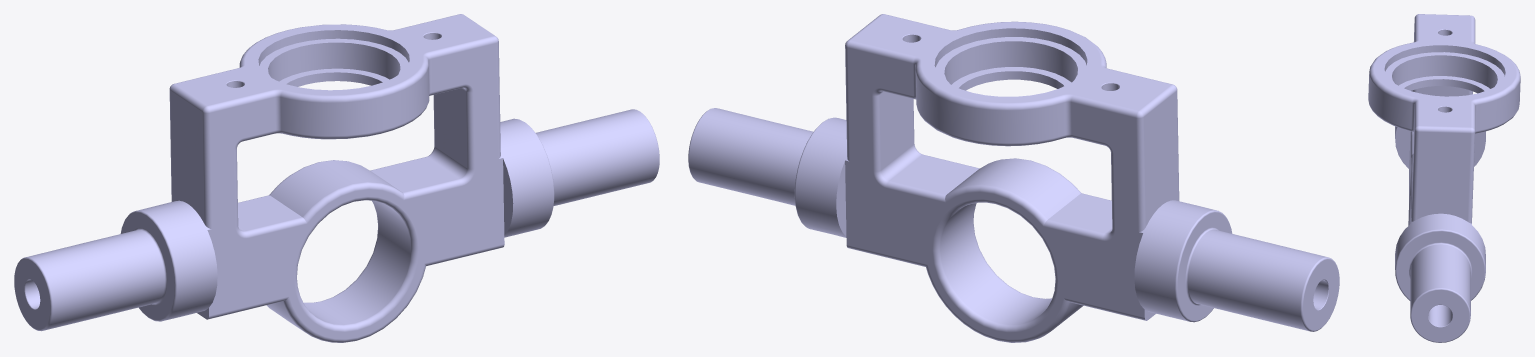
File: yaw_pitch_rotor.fbx
3 renders of one model, left to right at view 1: azimuth 30°, elevation 25°; view 2: azimuth 150°, elevation 25°; view 3: azimuth 270°, elevation 25°, orthographic. The views are drawn at different scales.
Visible parts, largest first — view 1: Body1; view 2: Body1; view 3: Body1.
Part boxes in pixels (x1,y1,x2,y2): Body1: (14, 14, 659, 342); Body1: (688, 14, 1339, 342); Body1: (1368, 14, 1520, 342).
Bounding box in the file's own units: 37.1 × 15.7 × 10.06.
